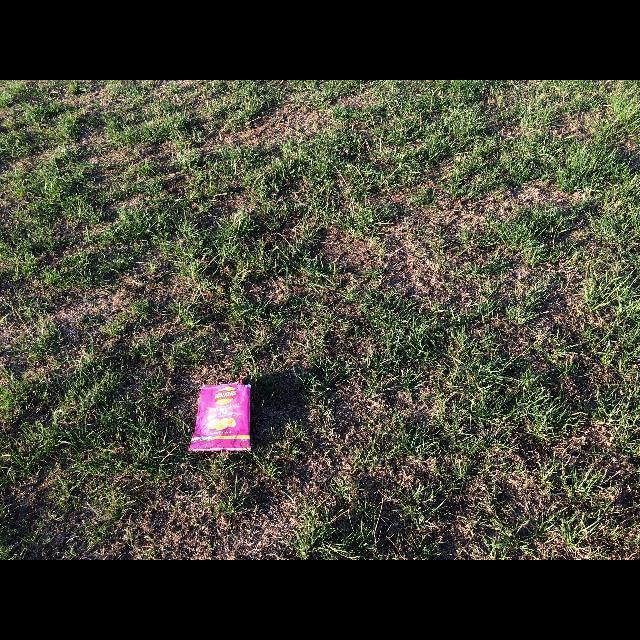Plastic: (190, 381, 250, 452)
